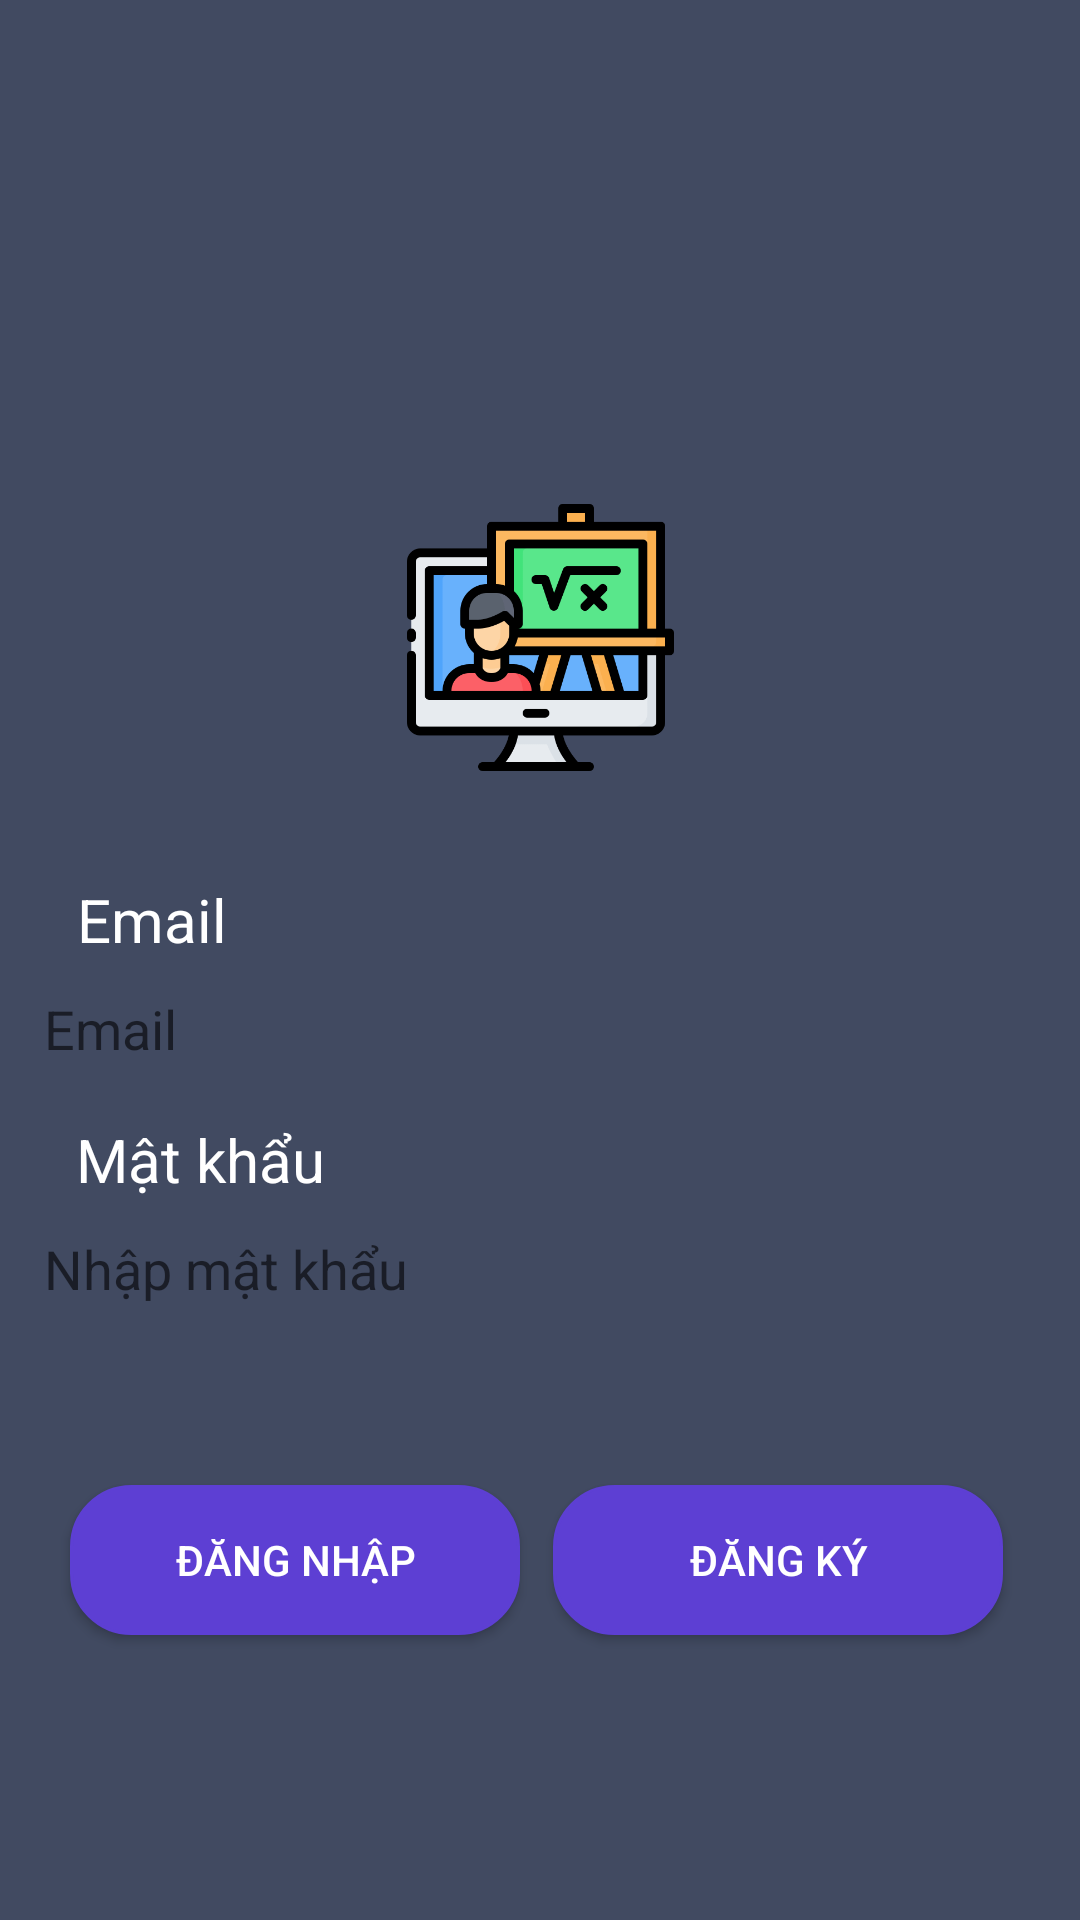

Icons on this 1080 x 1920 Android screen, each with its box as (x1, y1, x2, y2):
online class: (407, 504, 674, 771)
